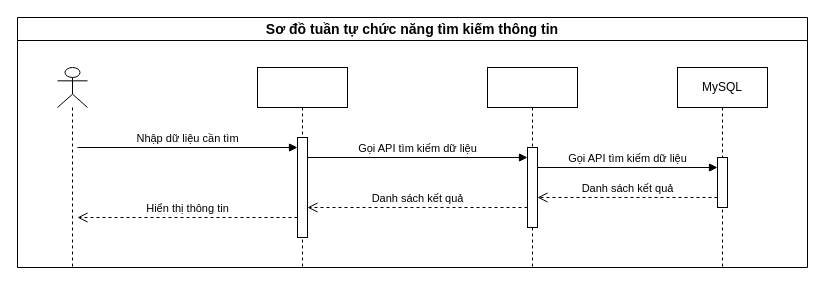
The diagram is 825 pixels wide and 285 high, and some of its shapes have lost their labels. The centre of each missing label's shape, as x and y in pixels:
"SPA (ReactJS)" goes at point (302, 167).
"Web API" goes at point (532, 167).
